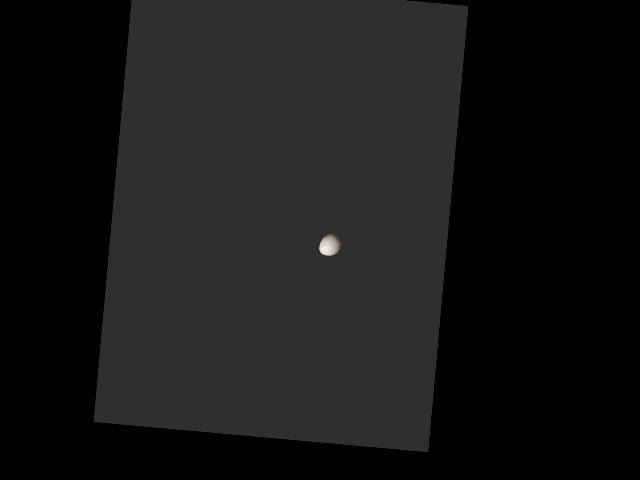egg: (318, 231, 343, 256)
